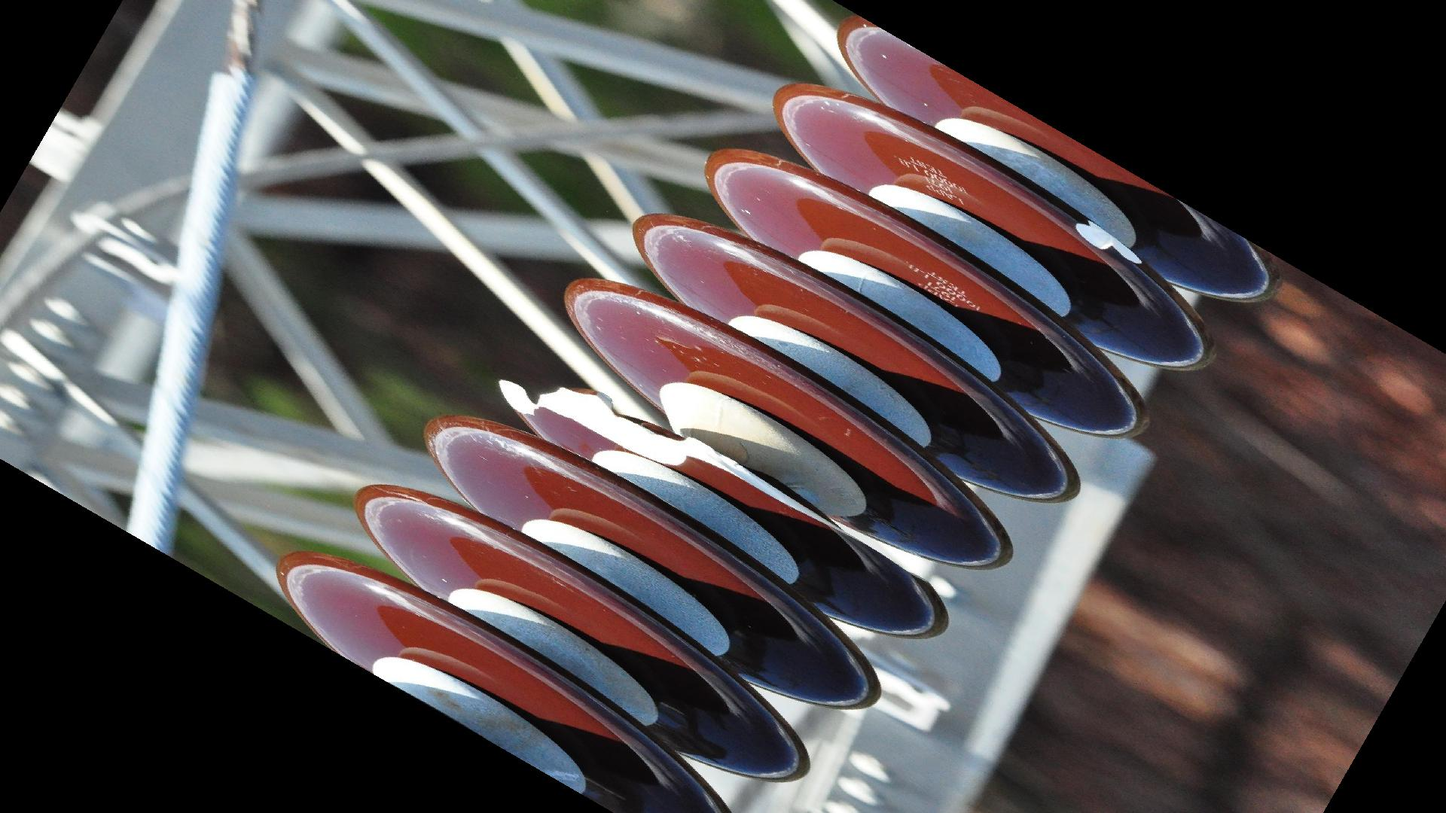insulator: (269, 7, 1282, 813)
insulator_breakage: (484, 368, 860, 547)
